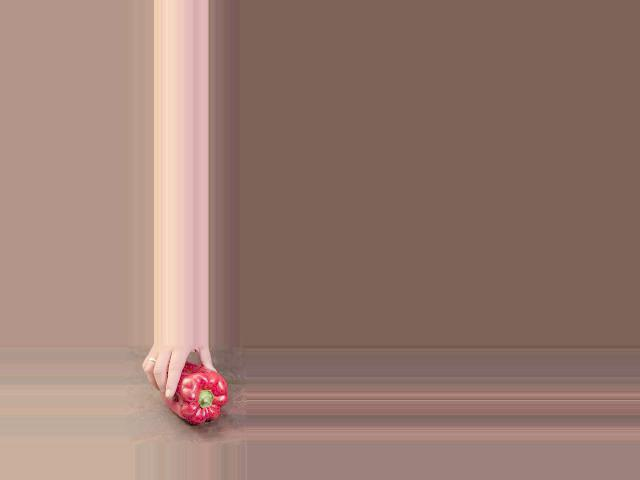bell_pepper: (167, 365, 229, 424)
